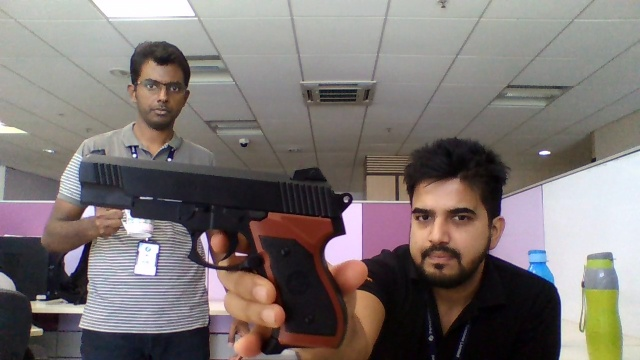gun: (82, 153, 345, 263)
